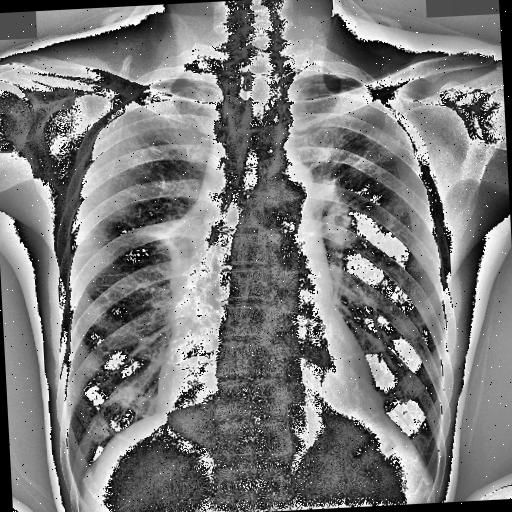13- Pulmonary fibrosis: (80, 230, 174, 246)
3- Cardiomegaly: (152, 336, 390, 440), (154, 364, 386, 448)
7- Lung Opacity: (141, 190, 220, 290)
9- Other lesion: (154, 192, 218, 282)
